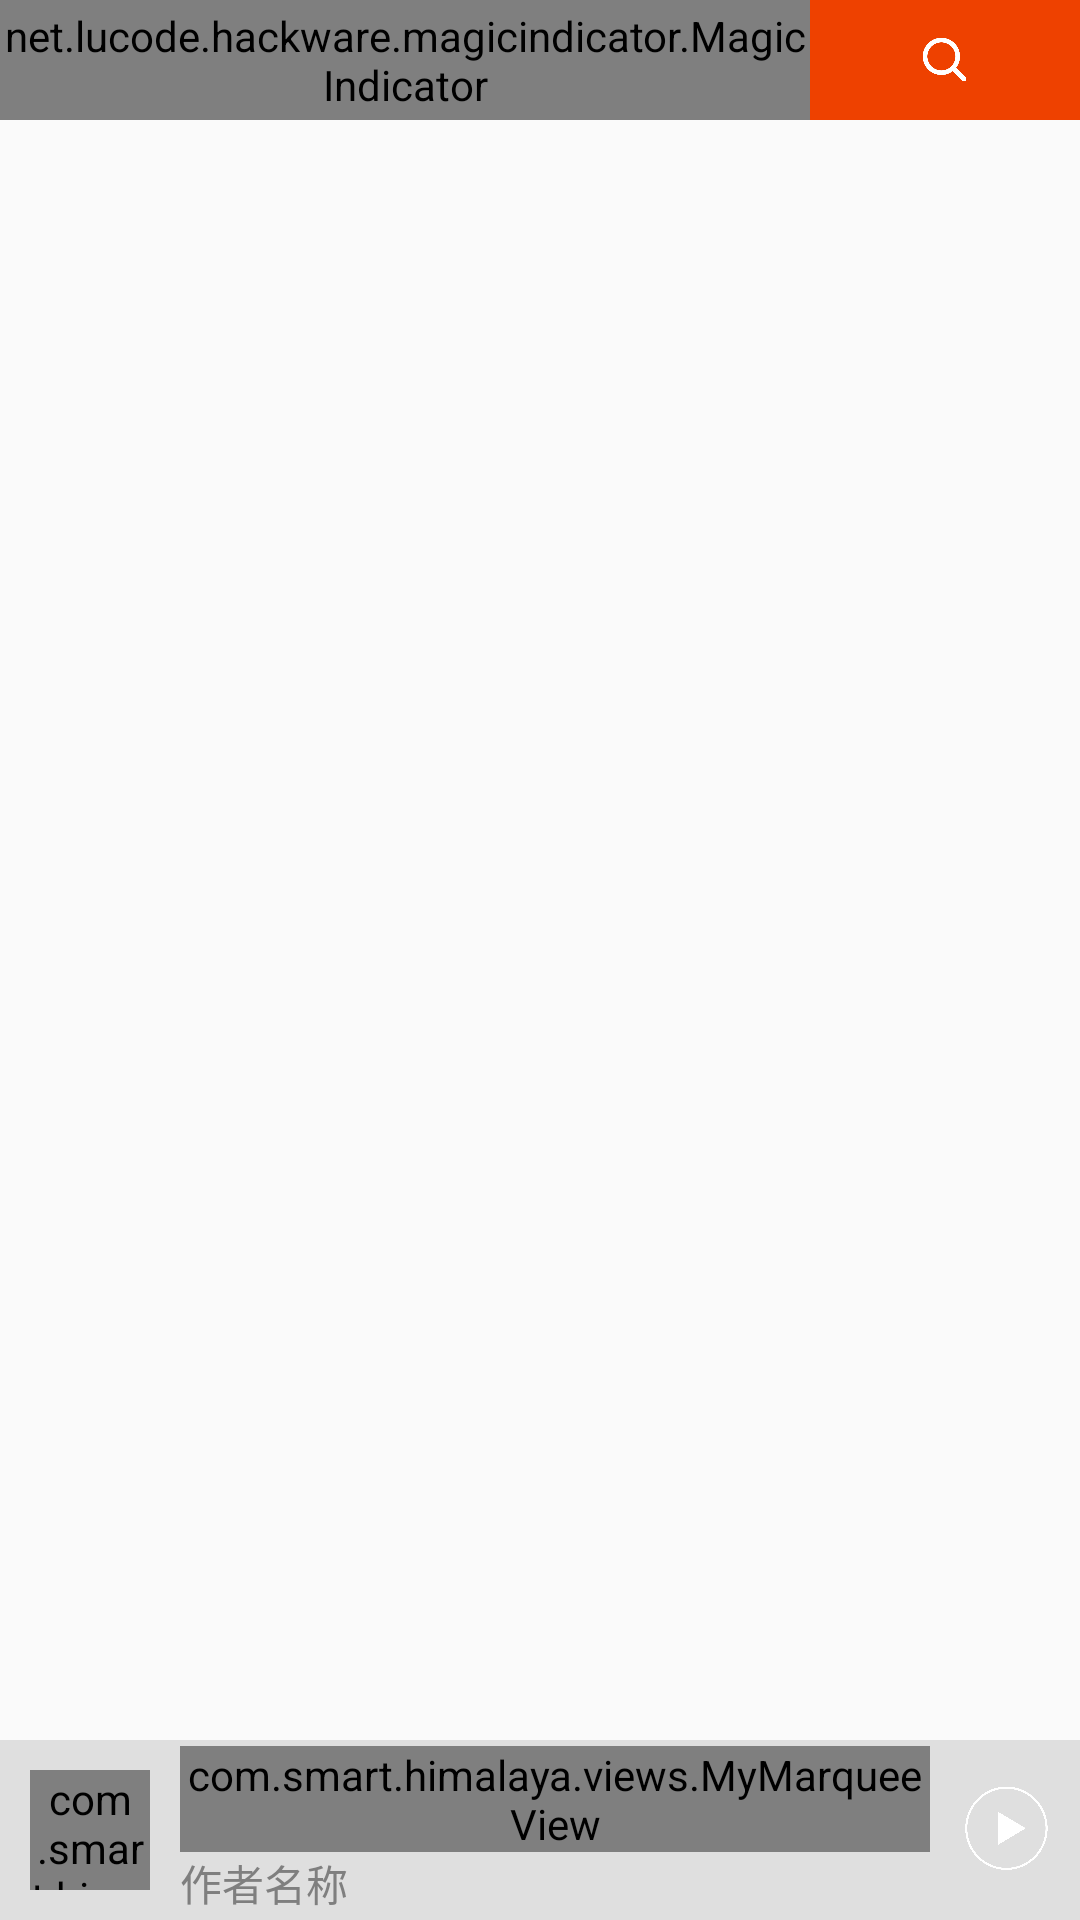

Point at icon controls on the screen. Image size 1080px×1920px, points as [x,y].
player play: [1006,1828]
search: [944,59]
